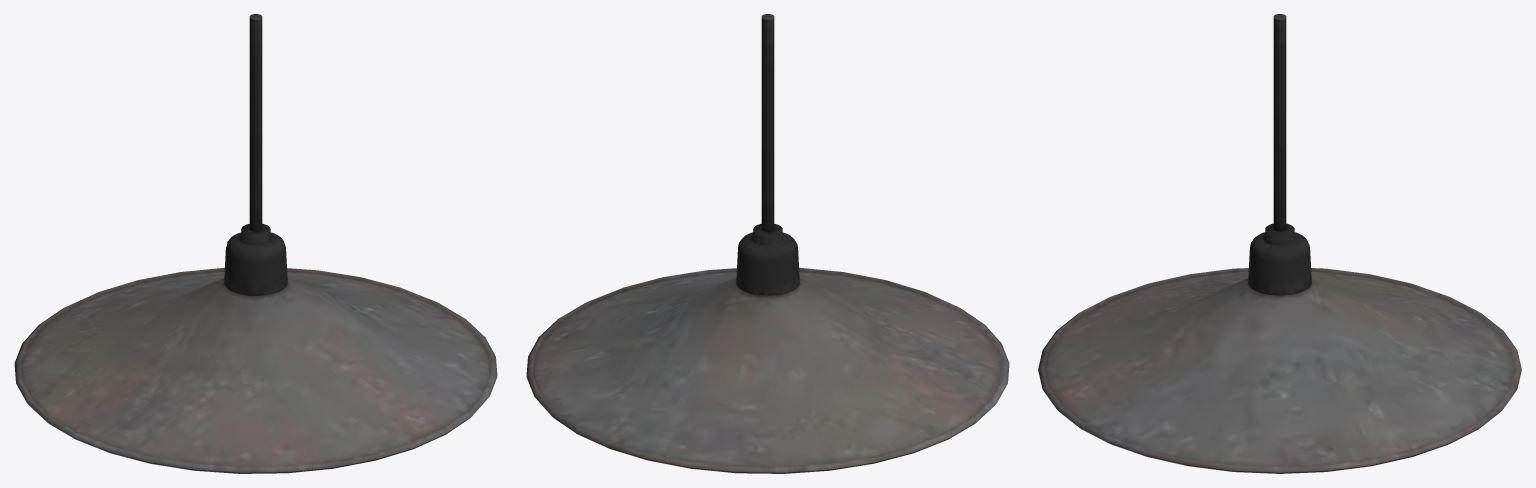
File: SM_LampTop_b20cb9.glb
3 views of the same model, side by side, from view 1: azimuth 30°, elevation 25°; view 2: azimuth 150°, elevation 25°; view 3: azimuth 270°, elevation 25° (orthographic).
Size of the model in its own units: 0.4911 by 0.4417 by 0.4911.
1 material, 1 textured.
